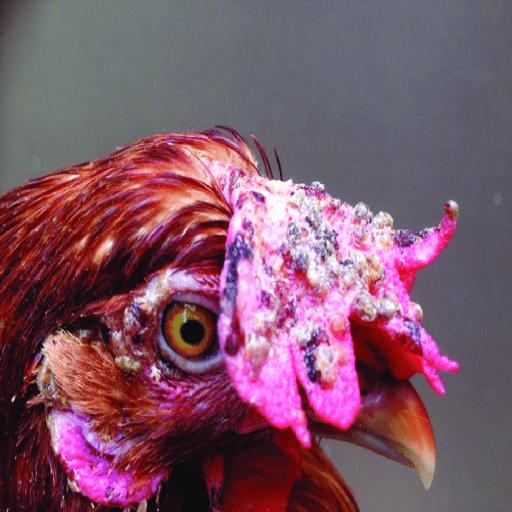disease: (220, 141, 479, 429), (84, 274, 163, 400)
